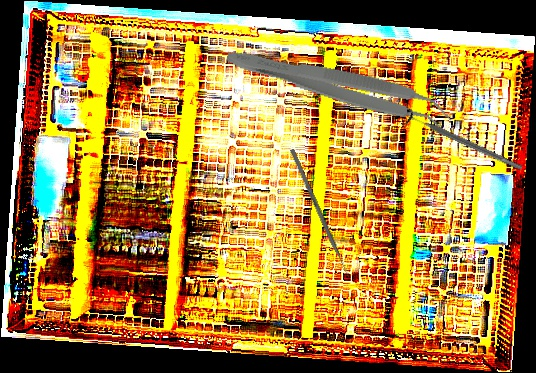Fixation Ring: (400, 106, 526, 178)
Pusher: (289, 148, 353, 283)
Tissue Forceps: (221, 41, 457, 136)
